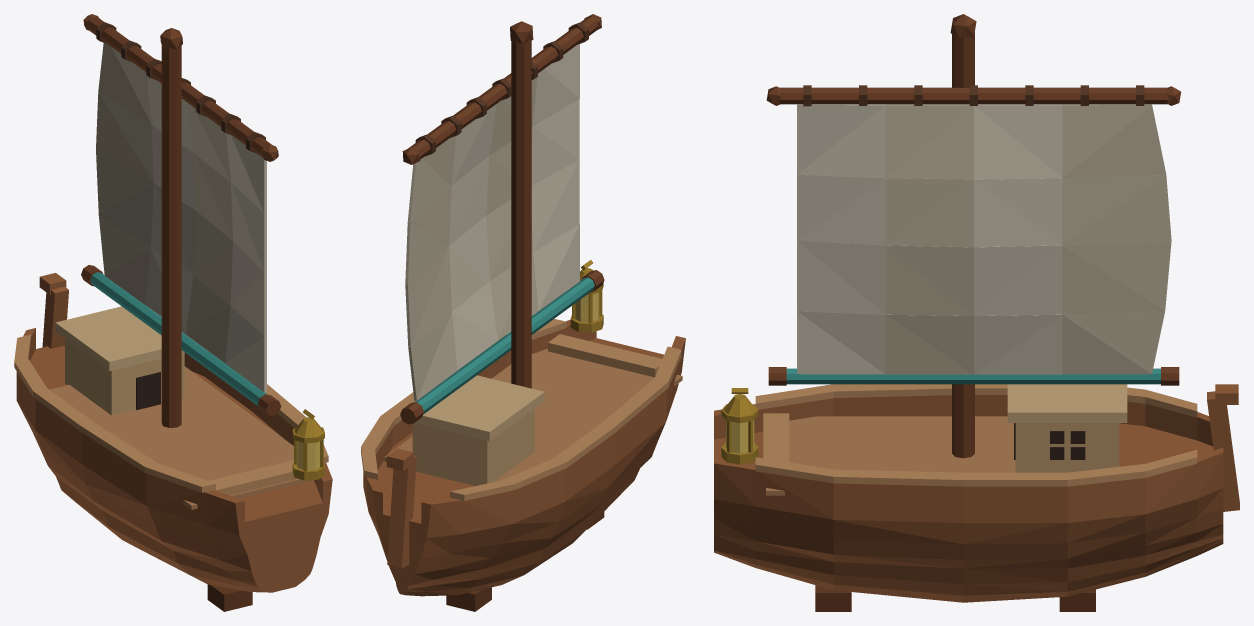
3 views of the same model, side by side, from view 1: azimuth 30°, elevation 25°; view 2: azimuth 150°, elevation 25°; view 3: azimuth 270°, elevation 25° (orthographic). The views are drawn at different scales.
Bounding box in the file's own units: 3.16 × 8.77 × 7.08.
